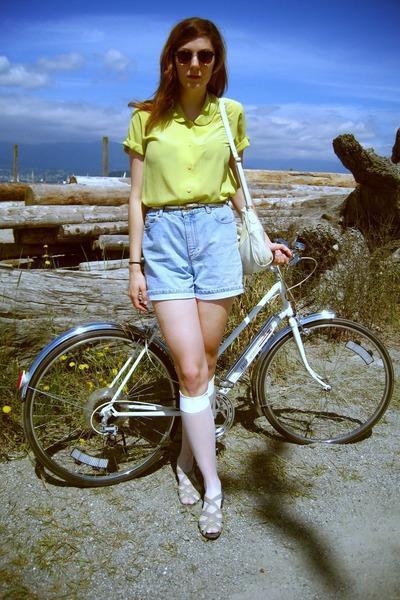bag: (226, 163, 279, 299)
shirt: (124, 92, 248, 225)
shoe: (185, 468, 220, 542)
shorts: (144, 204, 245, 306)
